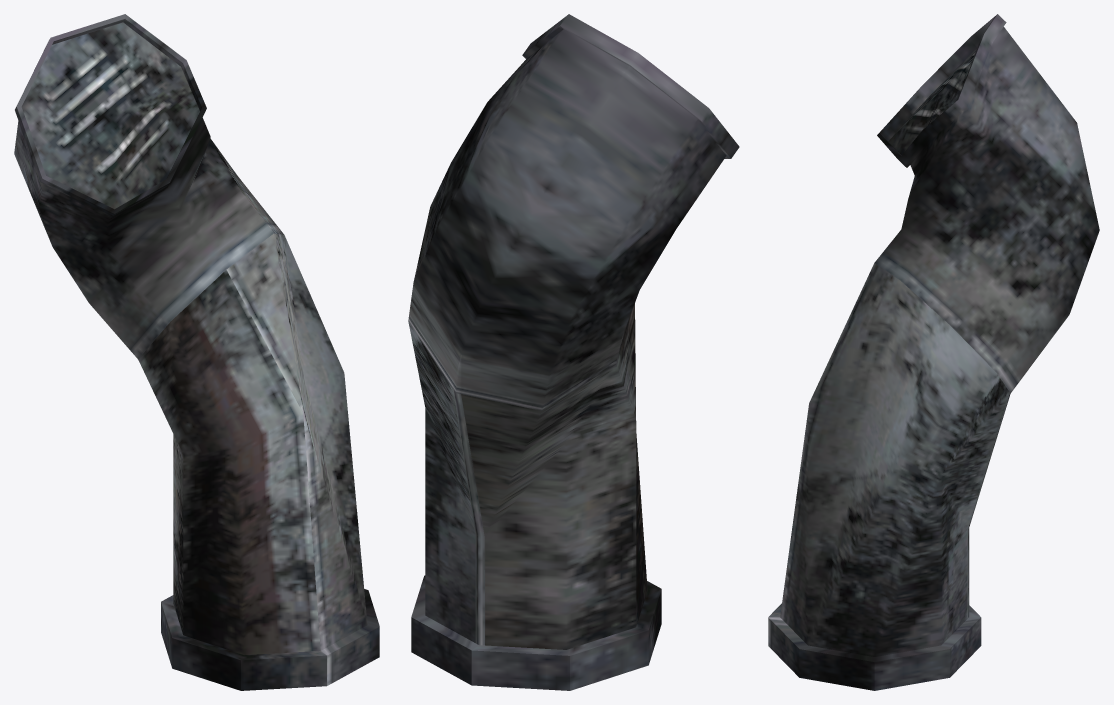
The model's file is Fan_Wrecked_3.fbx.
3 renders of one model, left to right at view 1: azimuth 30°, elevation 25°; view 2: azimuth 150°, elevation 25°; view 3: azimuth 270°, elevation 25°, orthographic. The views are drawn at different scales.
Parts seen in each view (by area): view 1: Fan_Wrecked_3; view 2: Fan_Wrecked_3; view 3: Fan_Wrecked_3.
Boxes of the visible parts, <box> form: Fan_Wrecked_3: <box>14,14,379,690</box>; Fan_Wrecked_3: <box>408,14,739,690</box>; Fan_Wrecked_3: <box>768,14,1099,690</box>.
Bounding box in the file's own units: 117 × 226 × 119.
